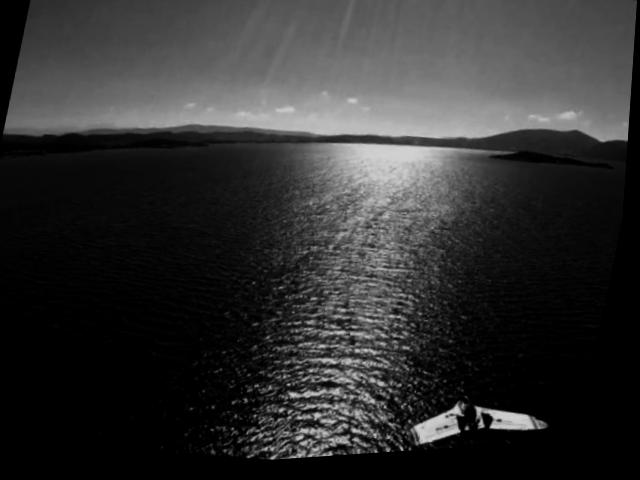hedef: (398, 378, 572, 458)
